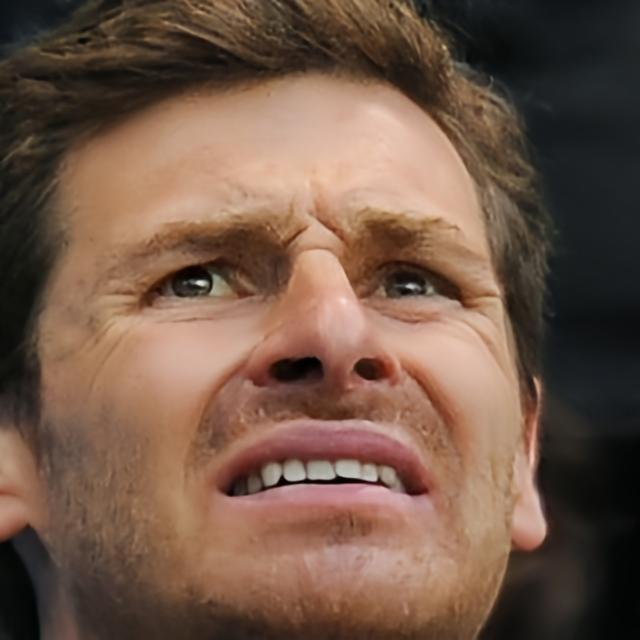disgust: (38, 69, 522, 636)
